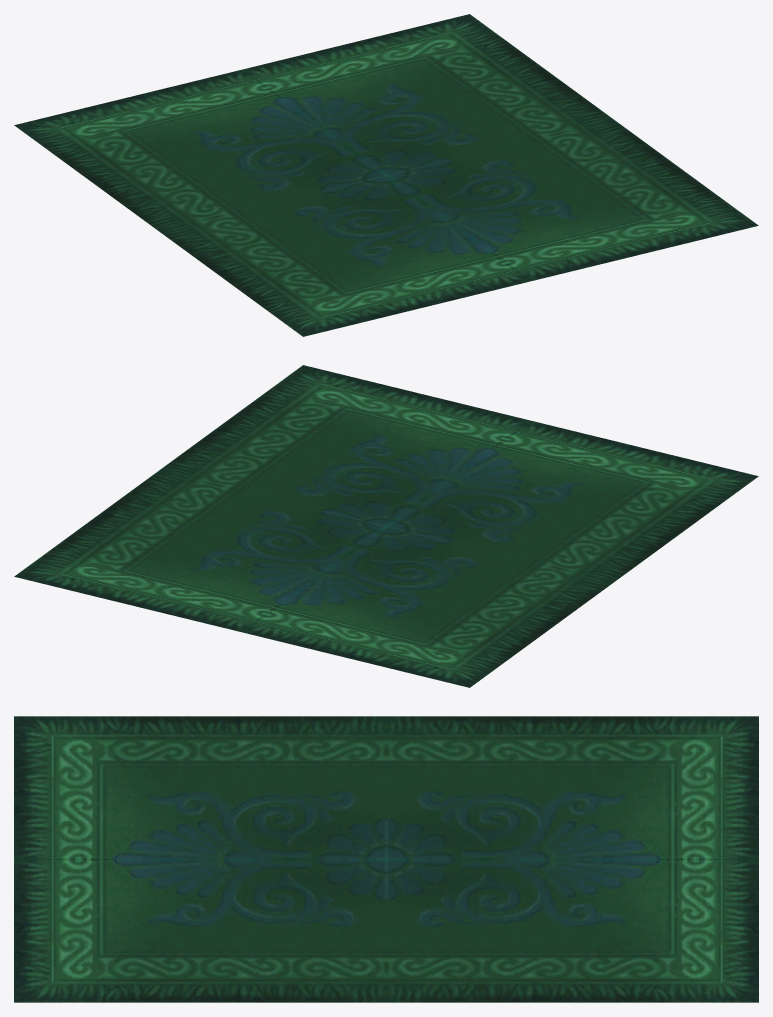
Rendered from environment_common_ditan_001_c.FBX.
3 views of the same model, one above another, from view 1: azimuth 30°, elevation 25°; view 2: azimuth 150°, elevation 25°; view 3: azimuth 270°, elevation 25° (orthographic). The views are drawn at different scales.
Parts seen in each view (by area): view 1: environment_common_ditan_001_c; view 2: environment_common_ditan_001_c; view 3: environment_common_ditan_001_c.
Part boxes in pixels (x1,y1,x2,y2): environment_common_ditan_001_c: (14,14,758,336); environment_common_ditan_001_c: (14,365,758,687); environment_common_ditan_001_c: (14,716,758,1002).
Size of the model in its own units: 2955 by 9.2e-13 by 3248.
